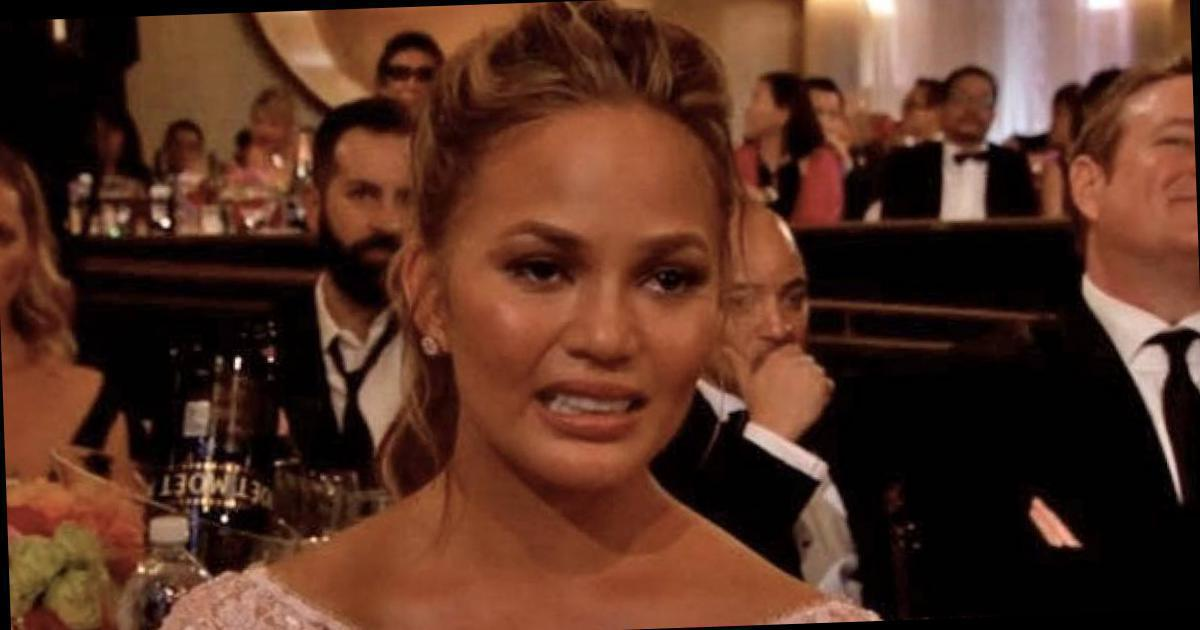Drunk: (473, 136, 718, 488)
